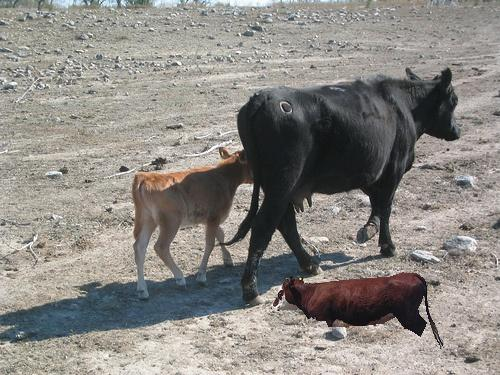tampered: (271, 273, 444, 349)
